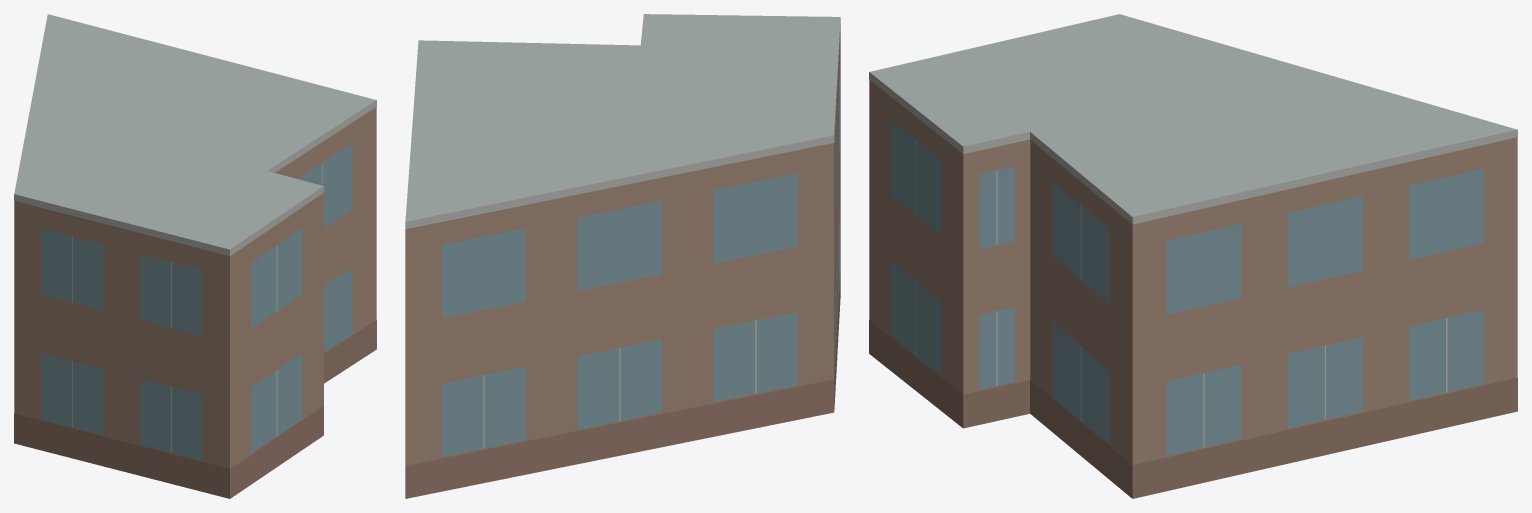
The model's file is survey-upis-33000545.glb.
3 renders of one model, left to right at view 1: azimuth 30°, elevation 25°; view 2: azimuth 150°, elevation 25°; view 3: azimuth 270°, elevation 25°, orthographic. The views are drawn at different scales.
Visible parts, largest first — view 1: survey-upis-33000545.tmp; view 2: survey-upis-33000545.tmp; view 3: survey-upis-33000545.tmp.
Boxes of the visible parts, x1,y1,x2,y2 form: survey-upis-33000545.tmp: (14,14,376,498); survey-upis-33000545.tmp: (405,14,840,498); survey-upis-33000545.tmp: (869,14,1517,498).
Bounding box in the file's own units: 14.24 × 9.2 × 19.21.
